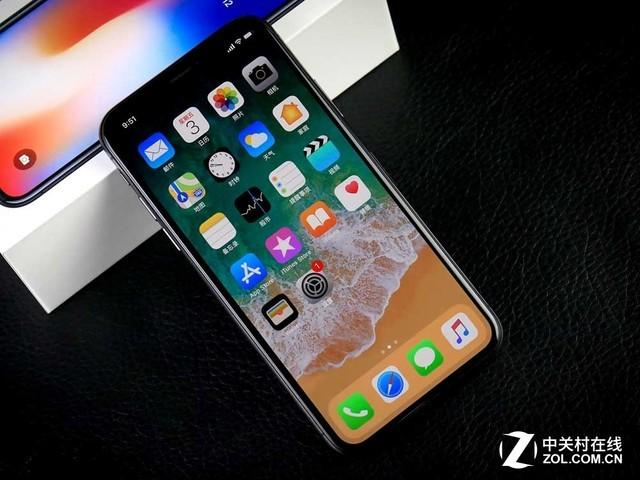phone: (117, 38, 500, 460), (1, 1, 167, 208)
